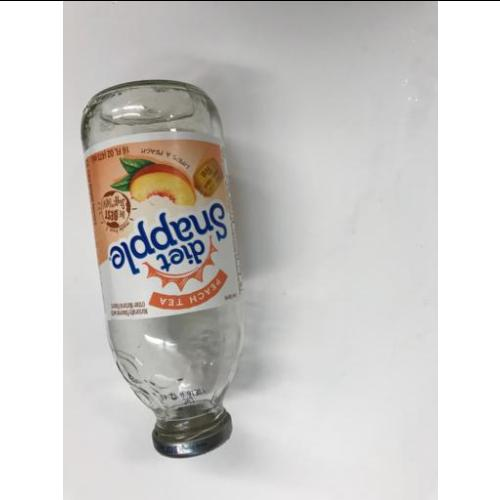glass: (82, 80, 245, 457)
